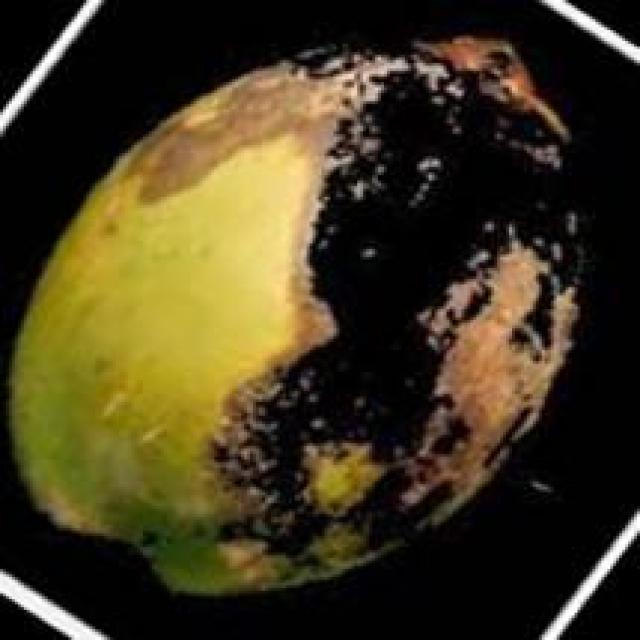damaged: (9, 36, 598, 596)
